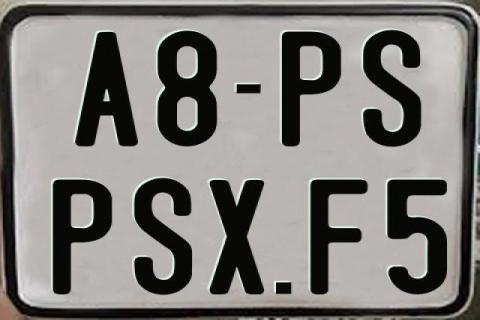0: (154, 29, 219, 149), (386, 177, 450, 292)
A: (75, 31, 141, 147)
F: (307, 180, 371, 296)
P: (53, 177, 118, 296), (282, 29, 344, 147)
S: (134, 177, 192, 299), (363, 29, 422, 148)
X: (210, 177, 266, 293)
